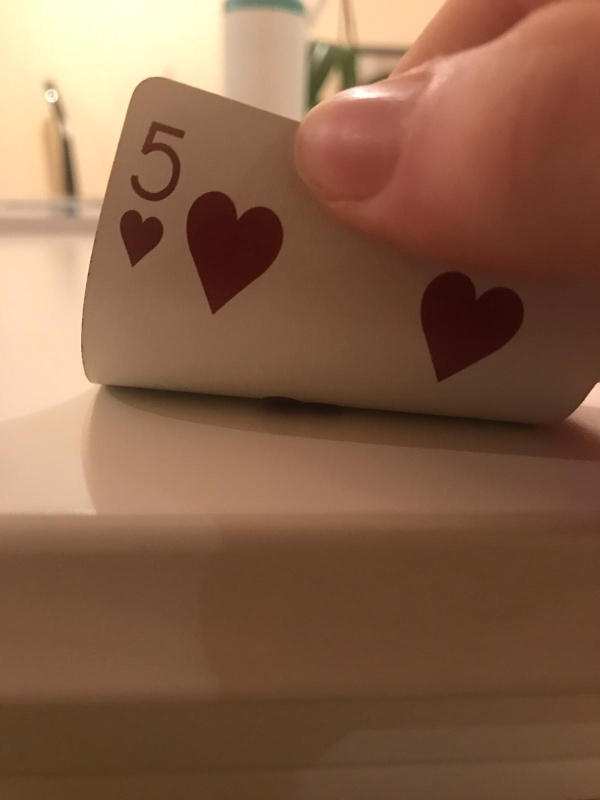H5: (120, 115, 186, 271)
